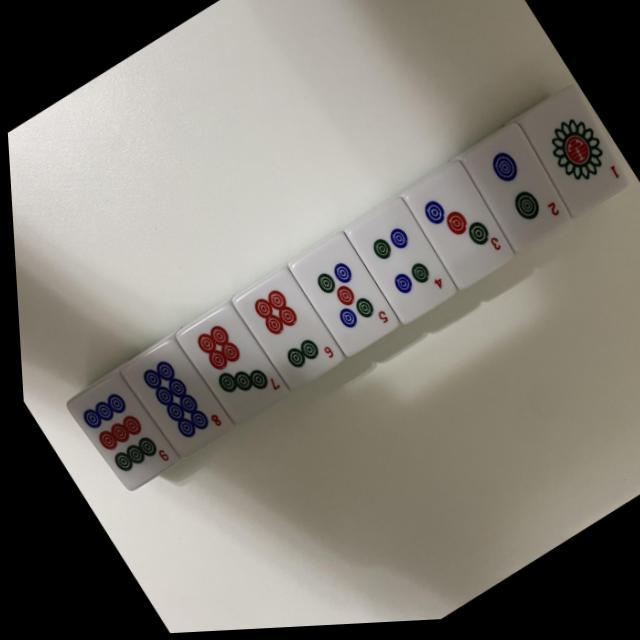sd1: (515, 91, 626, 224)
sd2: (456, 127, 567, 257)
sd3: (400, 165, 510, 295)
sd4: (340, 200, 453, 329)
sd5: (283, 235, 396, 363)
sd6: (227, 268, 340, 396)
sd7: (169, 303, 284, 429)
sd8: (113, 338, 228, 461)
sd9: (58, 373, 175, 494)
